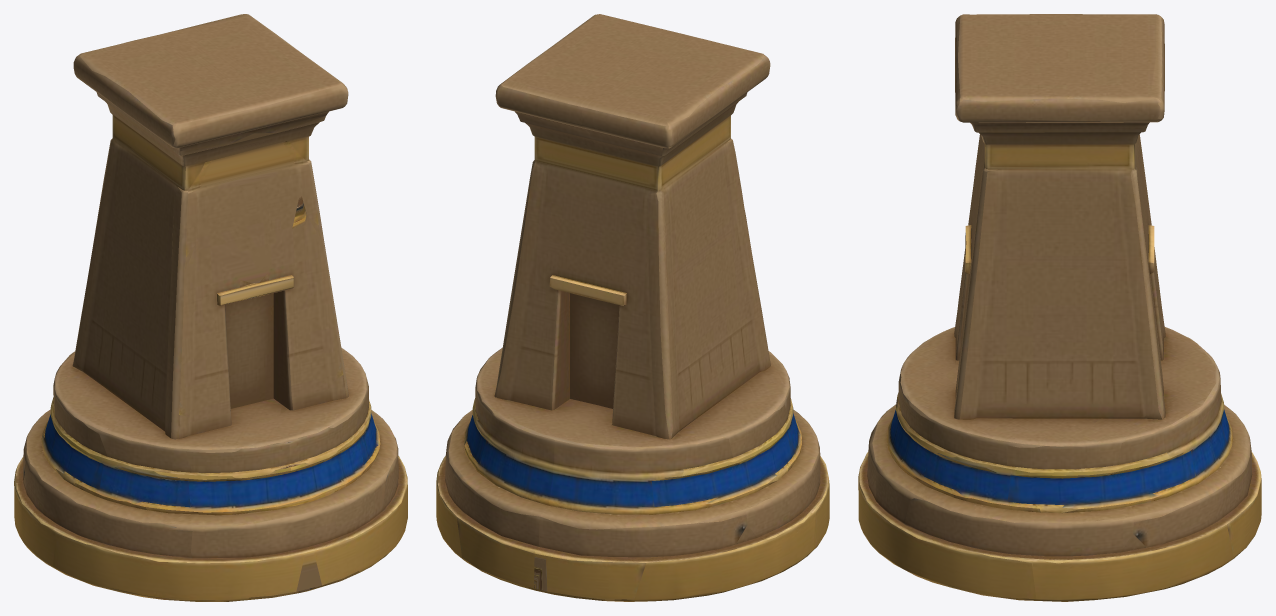
The picture shows the model from 3 angles, left to right: view 1: azimuth 30°, elevation 25°; view 2: azimuth 150°, elevation 25°; view 3: azimuth 270°, elevation 25°; orthographic projection. The views are drawn at different scales.
Parts seen in each view (by area): view 1: world; view 2: world; view 3: world.
Boxes of the visible parts, <box> form: world: <box>14,14,407,601</box>; world: <box>436,14,829,601</box>; world: <box>858,14,1261,601</box>.
Size of the model in its own units: 0.7905 by 1 by 0.7905.
Materials: 1 (1 with a texture image).
